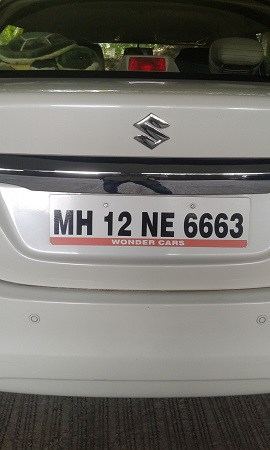licenseplate: (47, 191, 252, 252)
